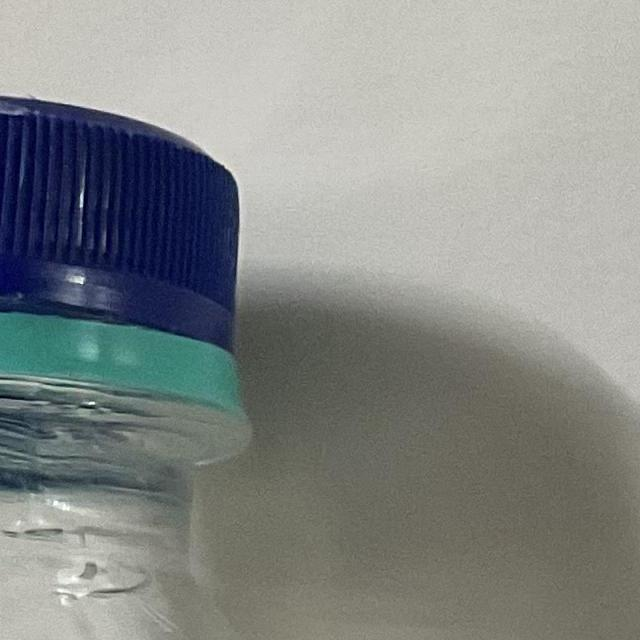Good-cap-Df0S: (0, 59, 295, 457)
